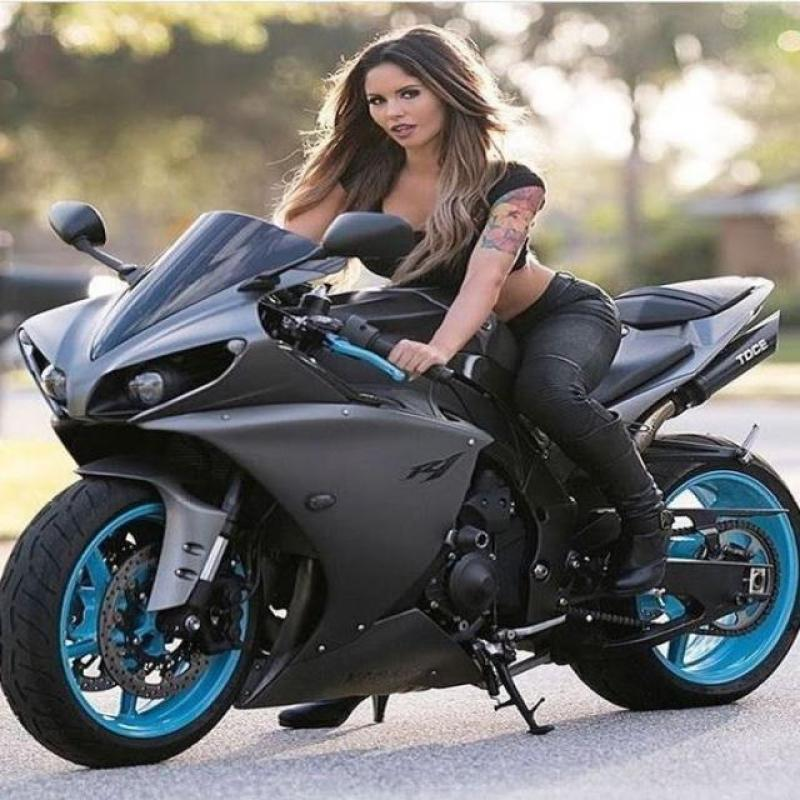nohelmet: (344, 22, 512, 172)
